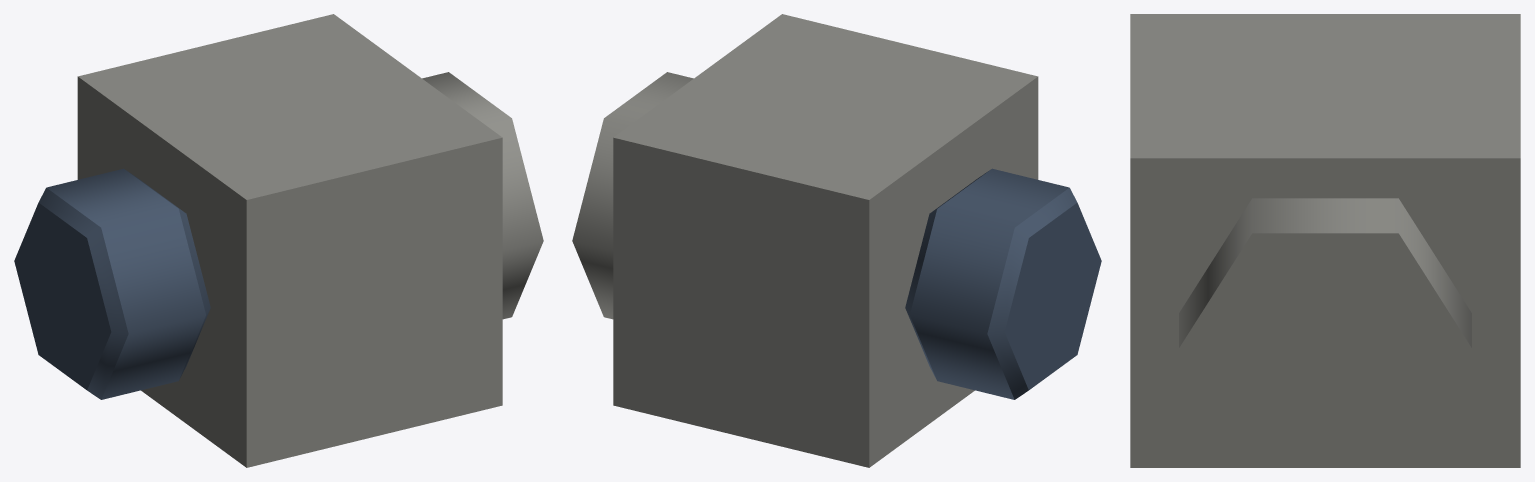
File: ko300_pump.obj
3 renders of one model, left to right at view 1: azimuth 30°, elevation 25°; view 2: azimuth 150°, elevation 25°; view 3: azimuth 270°, elevation 25°, orthographic. The views are drawn at different scales.
Parts seen in each view (by area): view 1: ko300_pump; view 2: ko300_pump; view 3: ko300_pump.
Part boxes in pixels (bbox=[...]): ko300_pump: bbox=[14, 14, 543, 467]; ko300_pump: bbox=[572, 14, 1101, 467]; ko300_pump: bbox=[1130, 14, 1520, 467].
Bounding box in the file's own units: 1.14 × 0.7 × 0.8.
